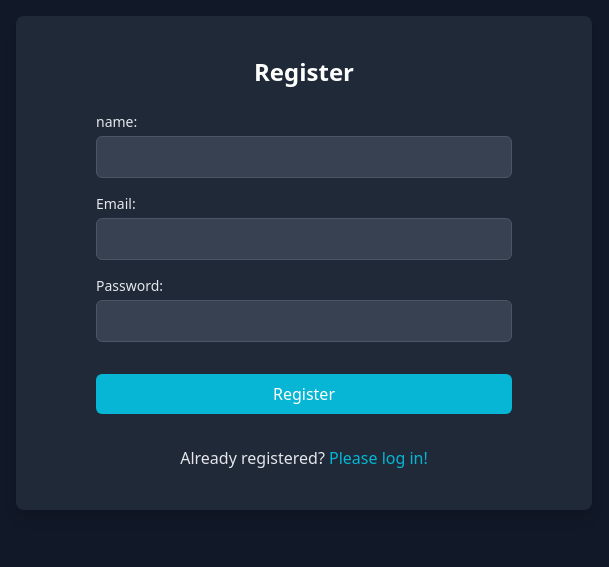
Test: RegisterForm Component › handles network errors gracefully
The image size is (609, 567).
Fill out the form
Type "Test User" into the field labelled "name:" at (304, 157), box [96,136,512,178]
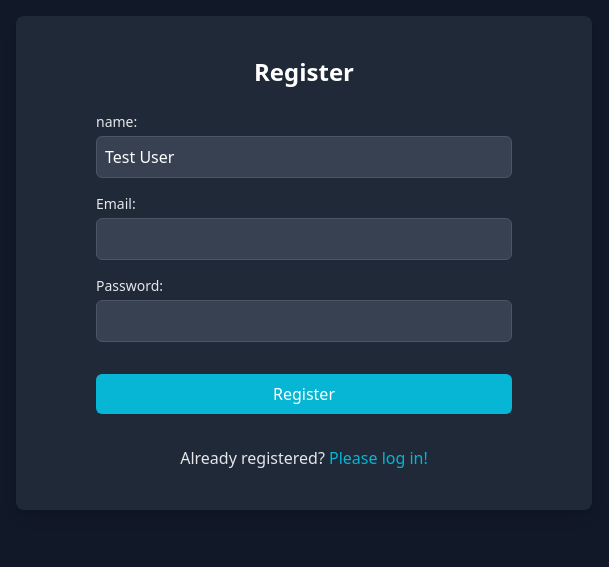
Type "test@example.com" into the field labelled "Email:" at (304, 239), box [96,218,512,260]
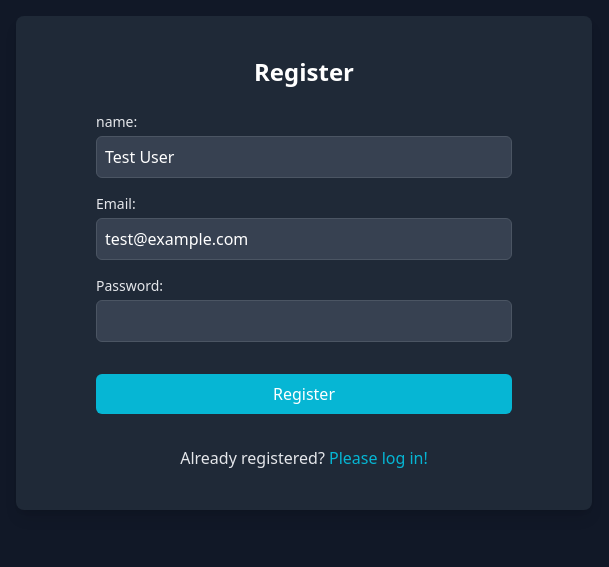
Type "password123" into the password field labelled "Password:" at (304, 321), box [96,300,512,342]
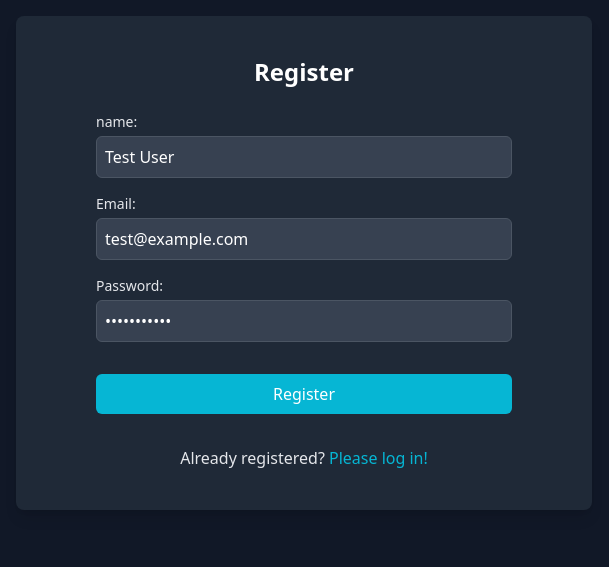
Submit the form
Click the button "Register" at (304, 394), box [96,374,512,414]
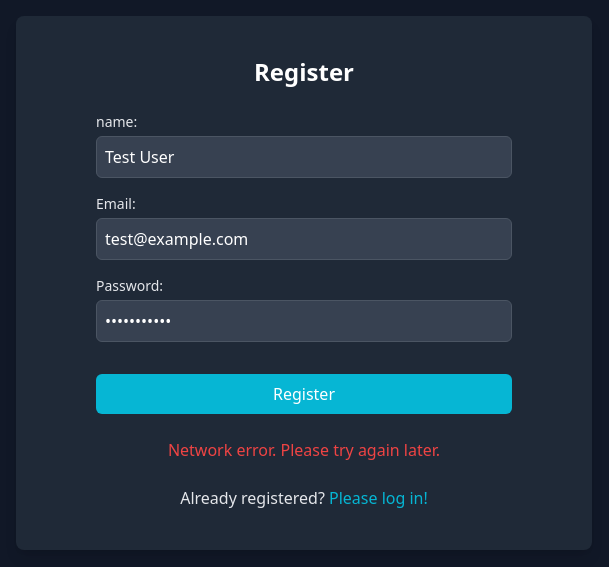
Result: the text "Network error. Please try again later." is shown at [168,439,440,461]
